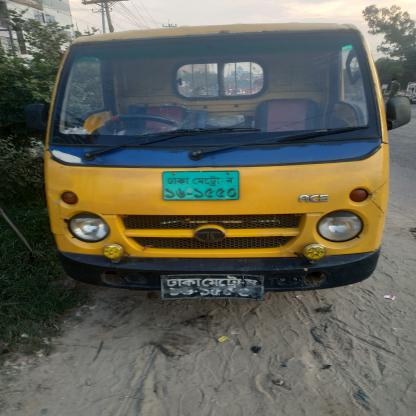license_plate: (161, 173, 243, 204)
